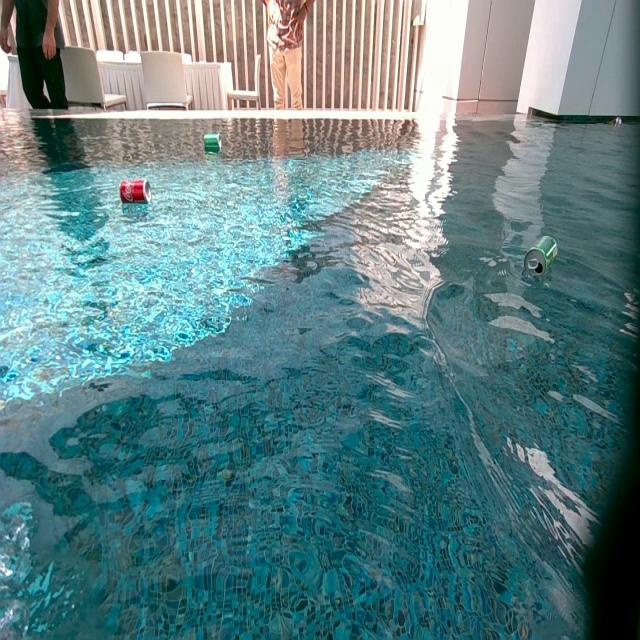Cans: (522, 236, 558, 278), (121, 179, 151, 203), (204, 134, 222, 154), (616, 117, 622, 126)
